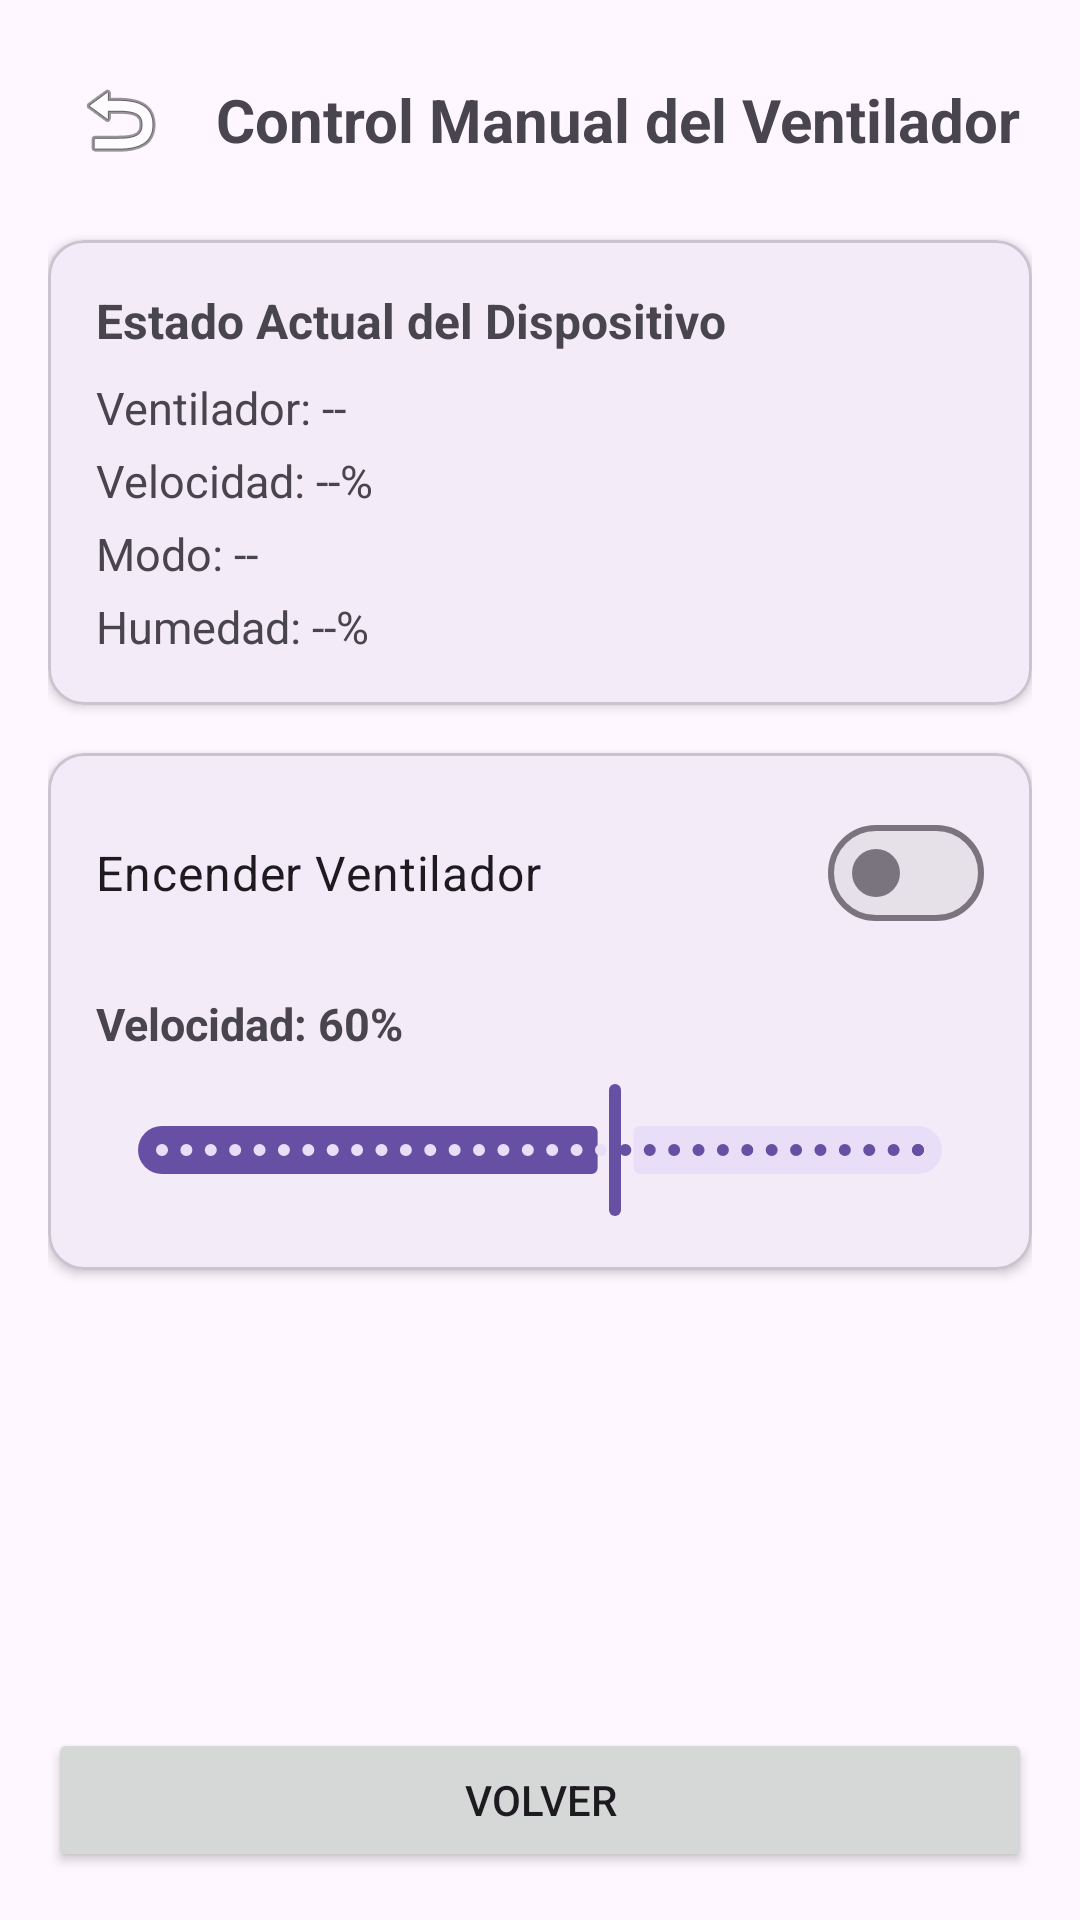

Locate icon controls on the screen. Image size 1080×1920, boxes as detection(x1, y1, x2, y2).
Volver: detection(87, 89, 156, 152)
